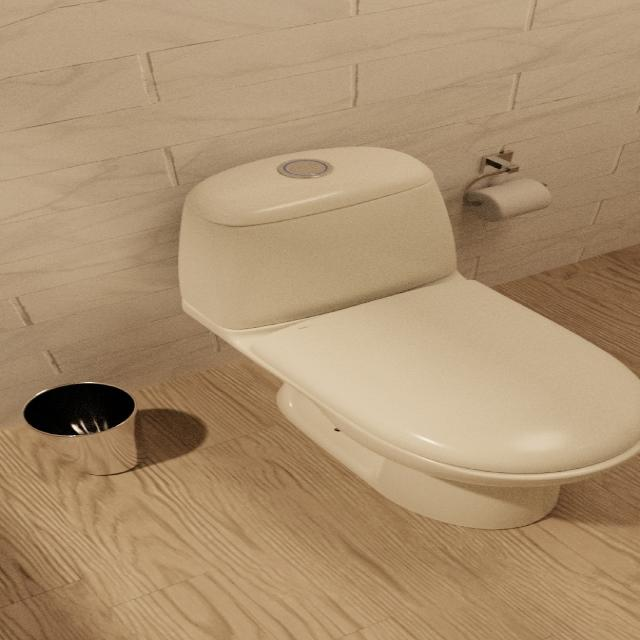toilet: (168, 139, 640, 530)
